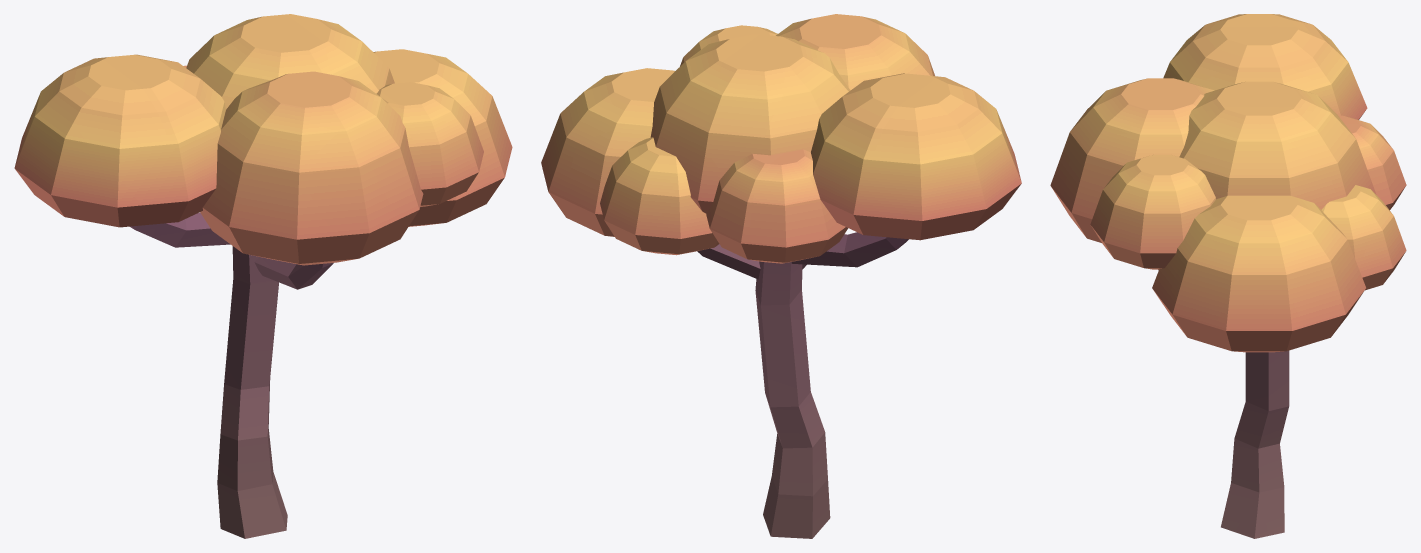
The model's file is tree001.obj.
The picture shows the model from 3 angles, left to right: view 1: azimuth 30°, elevation 25°; view 2: azimuth 150°, elevation 25°; view 3: azimuth 270°, elevation 25°; orthographic projection. The views are drawn at different scales.
Visible parts, largest first — view 1: tree.001; view 2: tree.001; view 3: tree.001.
Boxes of the visible parts, bbox=[...] form: tree.001: bbox=[14, 14, 512, 538]; tree.001: bbox=[541, 14, 1021, 538]; tree.001: bbox=[1050, 14, 1406, 538].
Bounding box in the file's own units: 15.11 × 15.16 × 10.99.
Materials: 1 (1 with a texture image).
